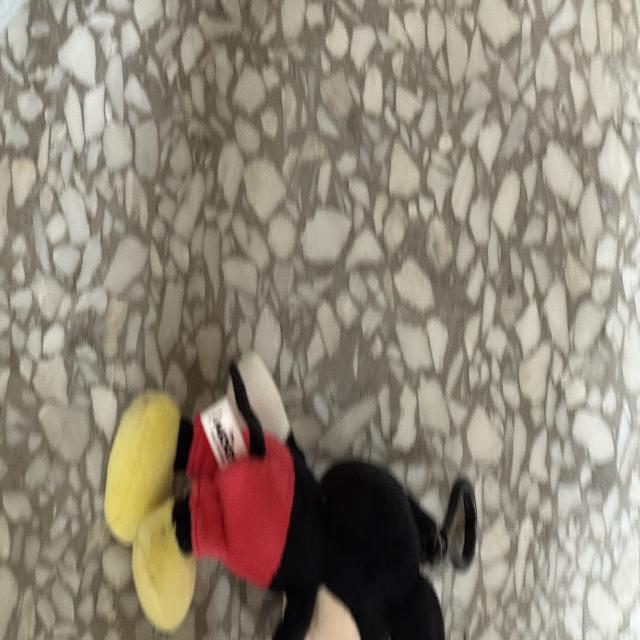mickey: (105, 356, 475, 639)
